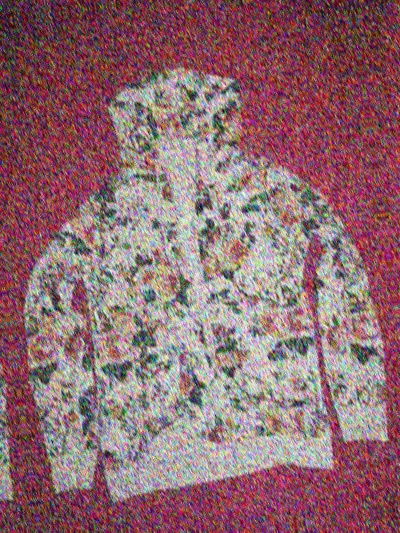Hoodie: (0, 29, 400, 514), (369, 0, 400, 458), (0, 86, 18, 533)
